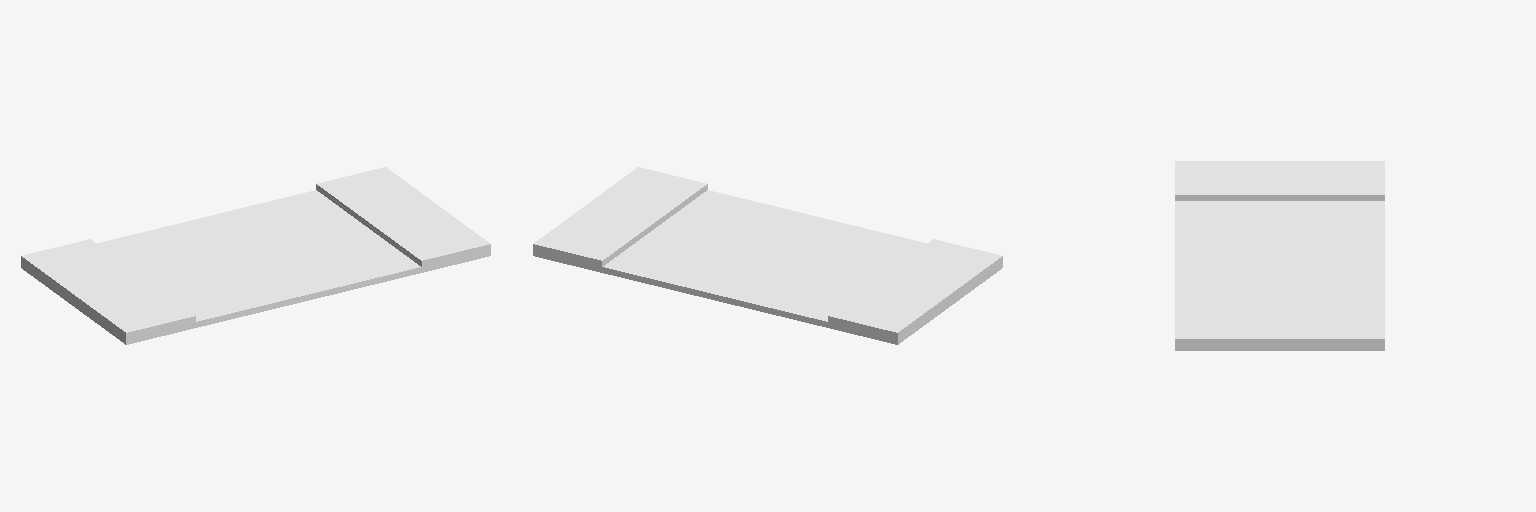
Rendered from roads-2.obj.
The picture shows the model from 3 angles: view 1: azimuth 30°, elevation 25°; view 2: azimuth 150°, elevation 25°; view 3: azimuth 270°, elevation 25°; orthographic projection.
Visible parts, largest first — view 1: object 1; view 2: object 1; view 3: object 1.
Part boxes in pixels (x1,y1,x2,y2): object 1: (21,167,490,344); object 1: (533,167,1002,344); object 1: (1175,161,1384,350).
Size of the model in its own units: 12.6 by 0.4 by 6.3.